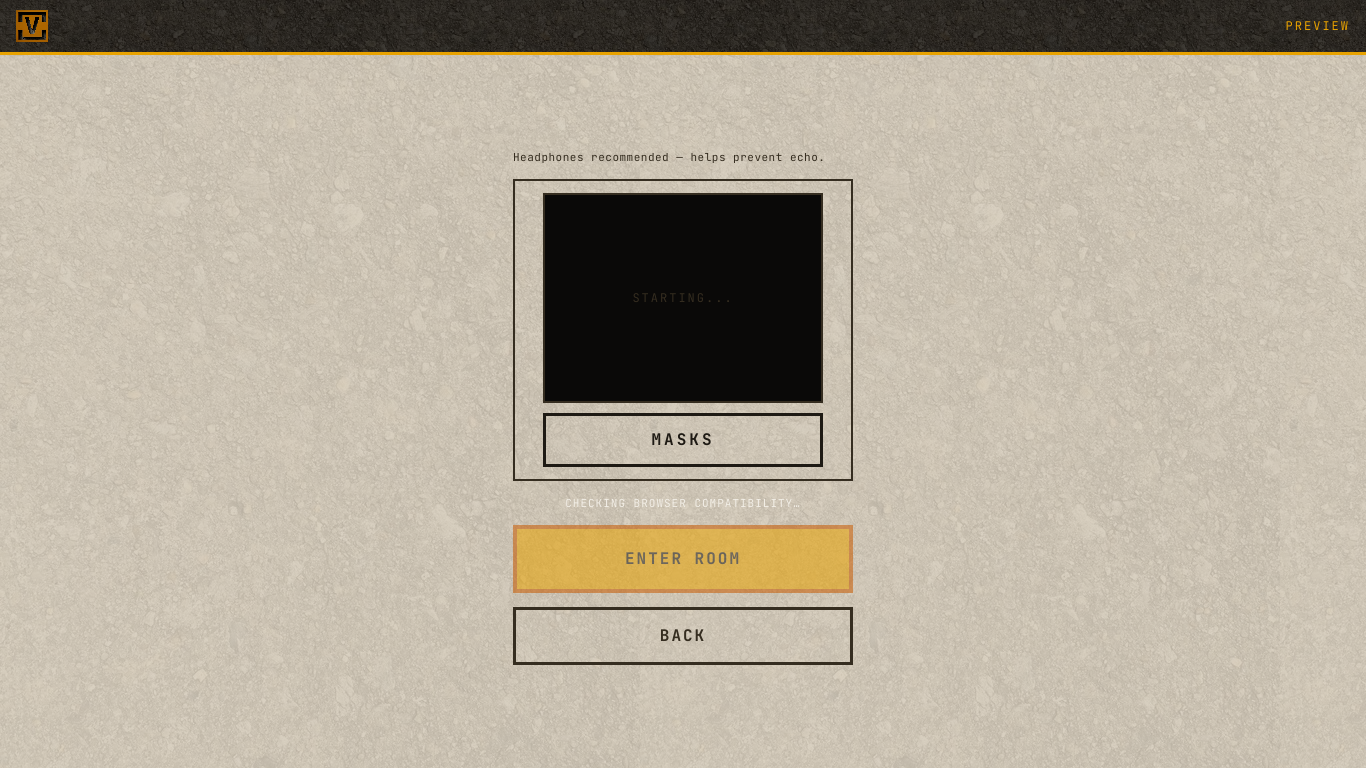
it: PreviewGate WebRTC probe hard gate (task #368) › holds ENTER ROOM disabled while the probe is still pending and shows the compatibility-check status
Expected: the text "CHECKING BROWSER COMPATIBILITY…" is shown, [565,496,801,510]
Click the button with test id "enter-room" at (683,559), box [513,525,853,593]
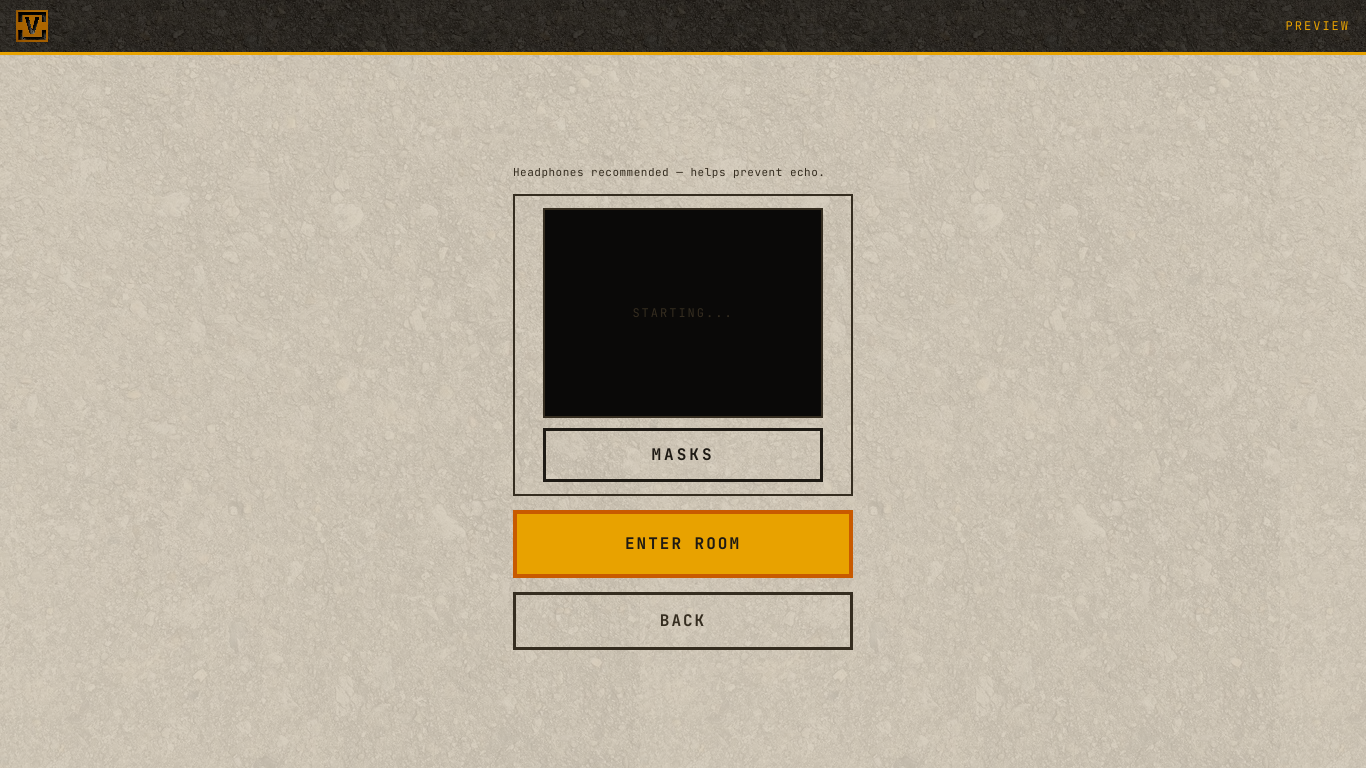
Result: the button with test id "enter-room" is enabled at [513,510,853,578]
Result: the text with test id "webrtc-probe-pending" is gone
